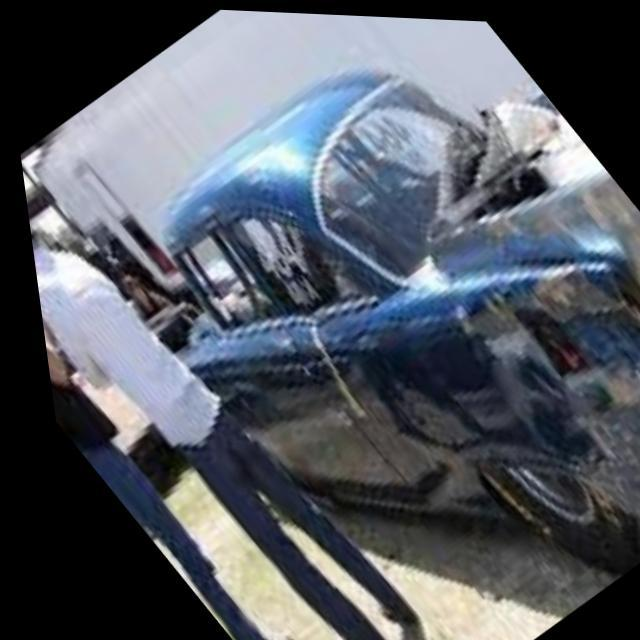crash: (424, 85, 640, 530)
